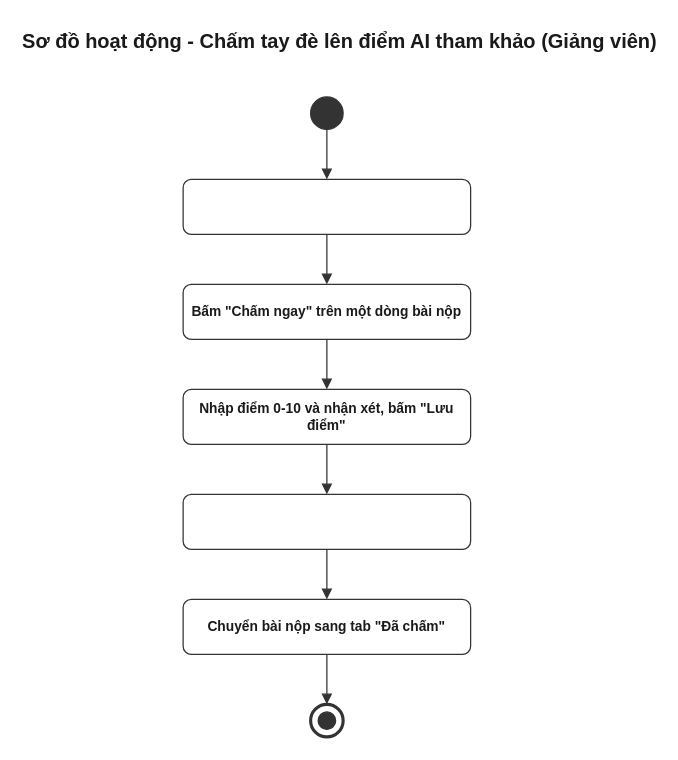
Image size: 678x760. Some labels were removed from this diagram. Here are the shapes that lost their labels. From the top down, the centre of each, then its label:
(326,206): Mở tab "Chờ chấm", xem danh sách kèm điểm AI quy đổi thang 10
(326,521): Hệ thống ghi điểm chấm tay, không đổi trạng thái bài nộp
